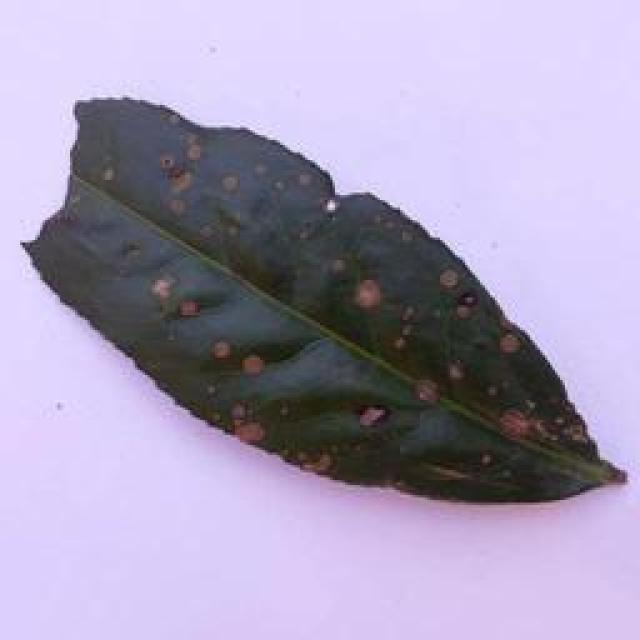Algal Leaf Spot: (27, 86, 610, 512)
